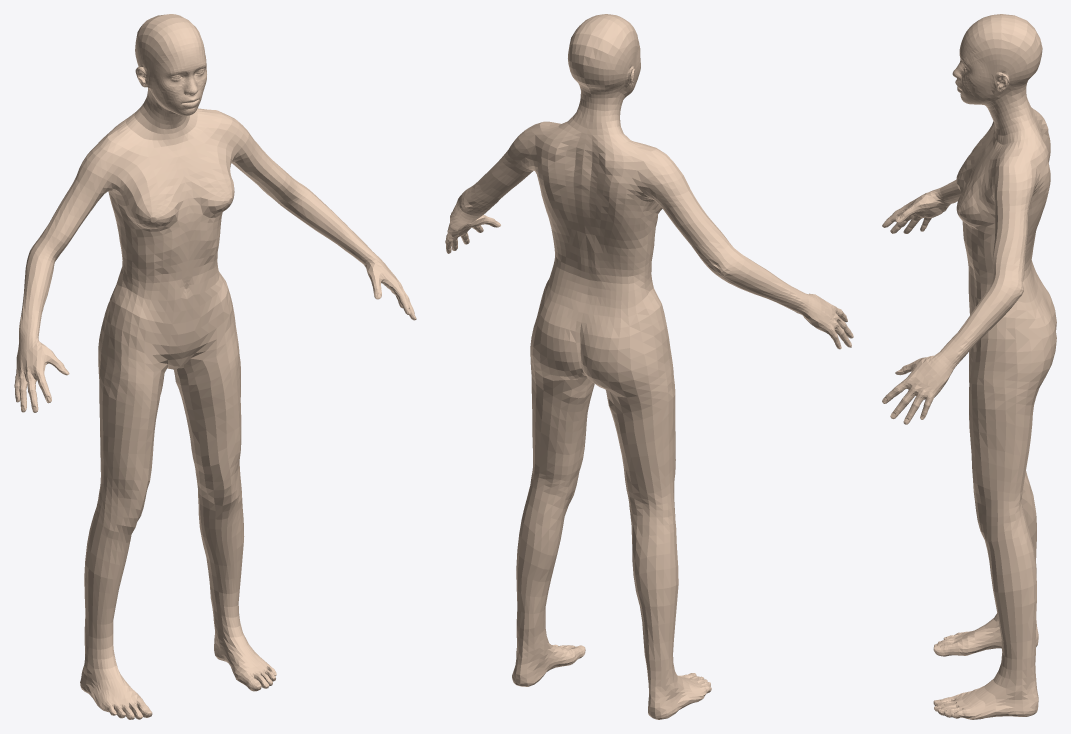
File: female-young-lean-medium.glb
3 views of the same model, side by side, from view 1: azimuth 30°, elevation 25°; view 2: azimuth 150°, elevation 25°; view 3: azimuth 270°, elevation 25° (orthographic).
Visible parts, largest first — view 1: world; view 2: world; view 3: world.
Boxes of the visible parts, box(x1,y1,x2,y2) form: world: box(14, 14, 416, 719); world: box(445, 14, 853, 719); world: box(882, 14, 1056, 719).
Bounding box in the file's own units: 1.09 × 1.76 × 0.4185.
